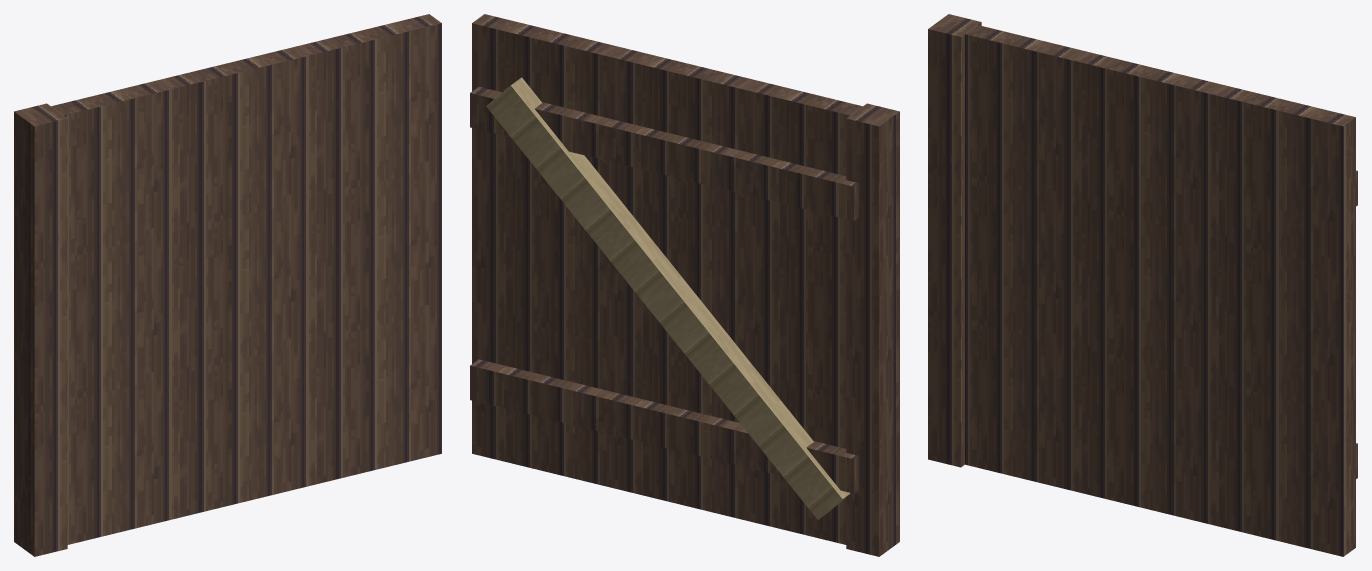
File: gate_leaf_ajar.glb
3 views of the same model, side by side, from view 1: azimuth 30°, elevation 25°; view 2: azimuth 150°, elevation 25°; view 3: azimuth 330°, elevation 25° (orthographic).
Parts seen in each view (by area): view 1: gate_leaf_ajar; view 2: gate_leaf_ajar; view 3: gate_leaf_ajar.
Part boxes in pixels (bbox=[...]): gate_leaf_ajar: bbox=[14, 14, 441, 556]; gate_leaf_ajar: bbox=[470, 14, 899, 556]; gate_leaf_ajar: bbox=[928, 14, 1357, 556].
Size of the model in its own units: 3 by 3 by 0.36.
2 materials, 2 textured.
